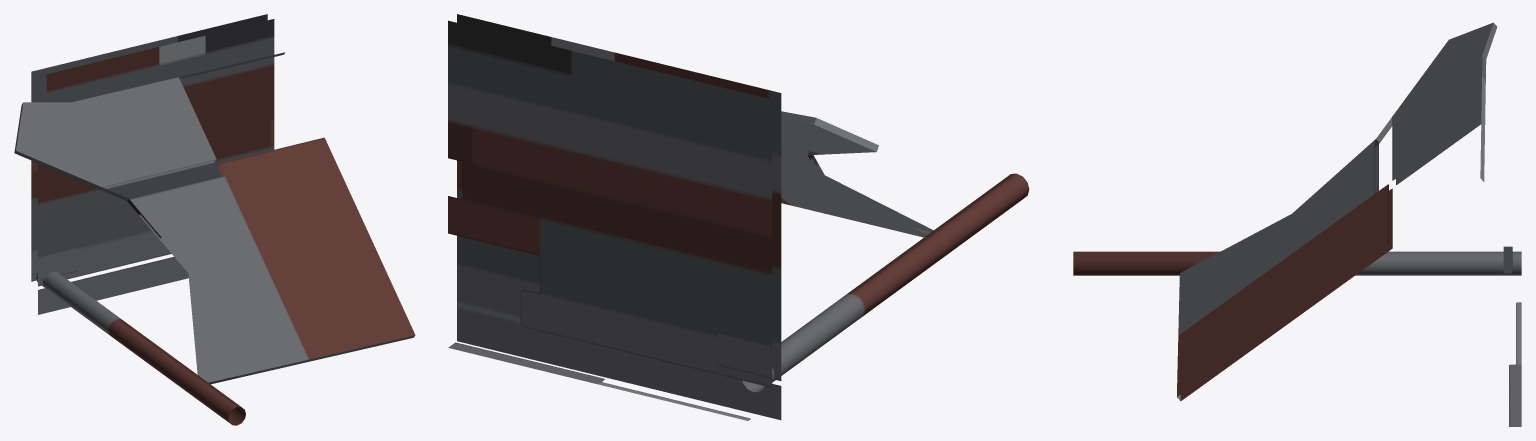
The model's file is section-0.obj.
3 renders of one model, left to right at view 1: azimuth 30°, elevation 25°; view 2: azimuth 150°, elevation 25°; view 3: azimuth 270°, elevation 25°, orthographic. The views are drawn at different scales.
Bounding box in the file's own units: 1.24 × 1 × 1.46.
